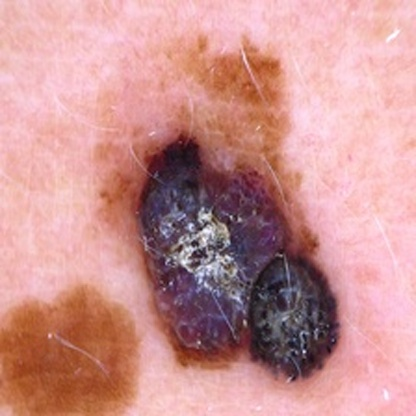malignant: (130, 149, 332, 362), (106, 38, 265, 152), (4, 300, 136, 405)
